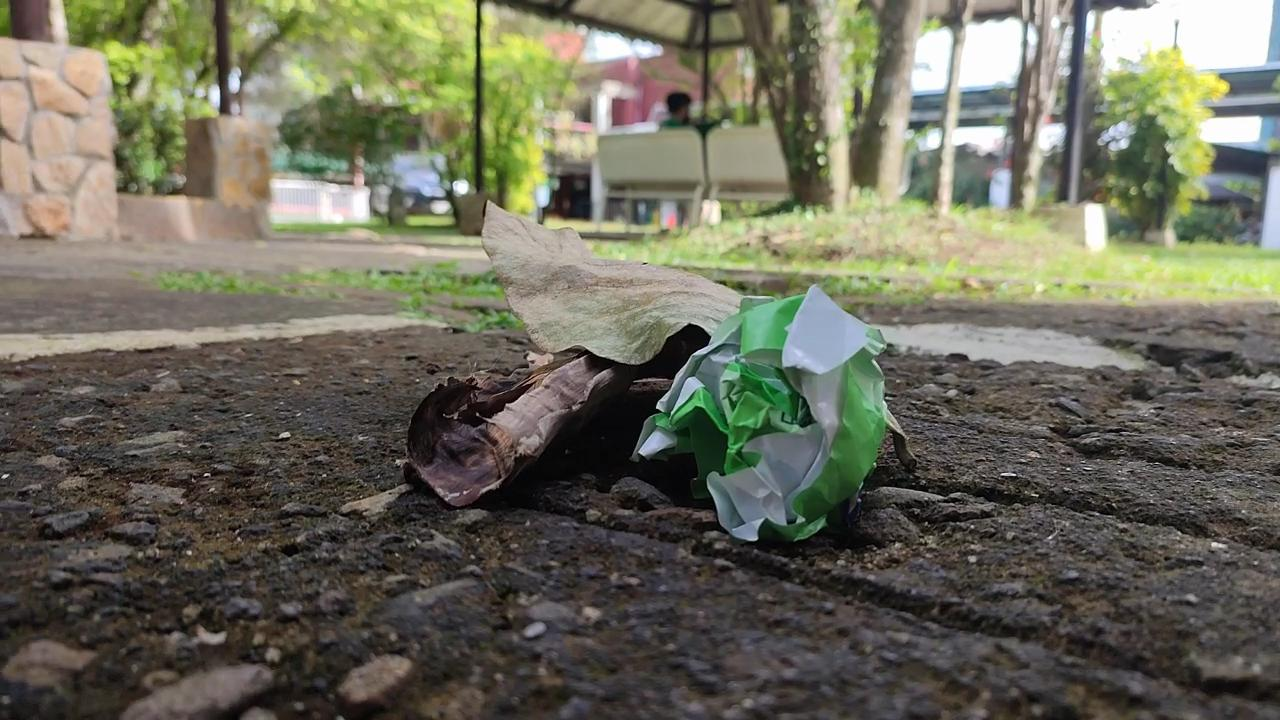Paper: (606, 274, 912, 561)
